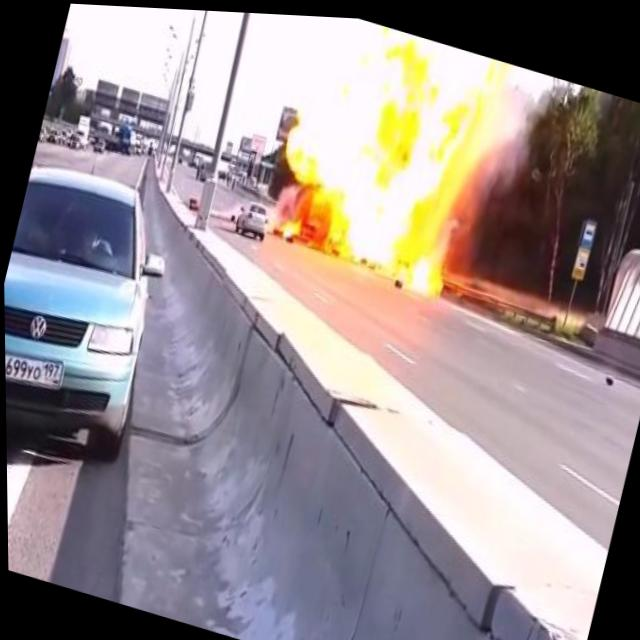fire: (254, 10, 524, 305)
